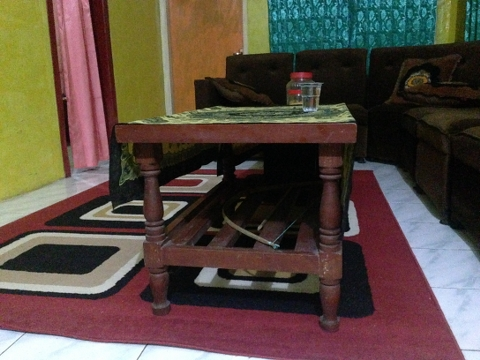meja: (112, 103, 358, 331)
tempat minum: (298, 82, 323, 111)
